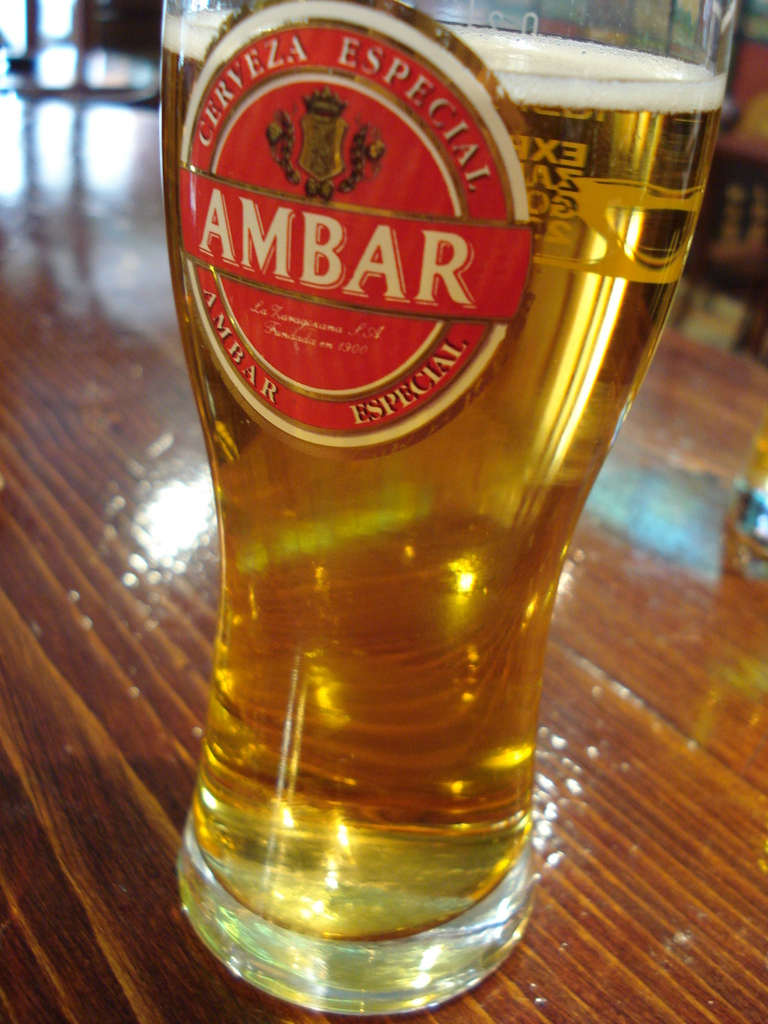Beer: (159, 0, 737, 1015)
